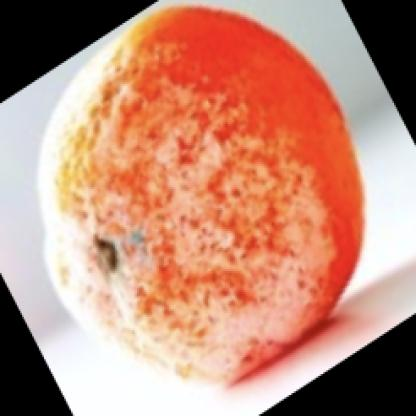rotten: (39, 7, 365, 386)
